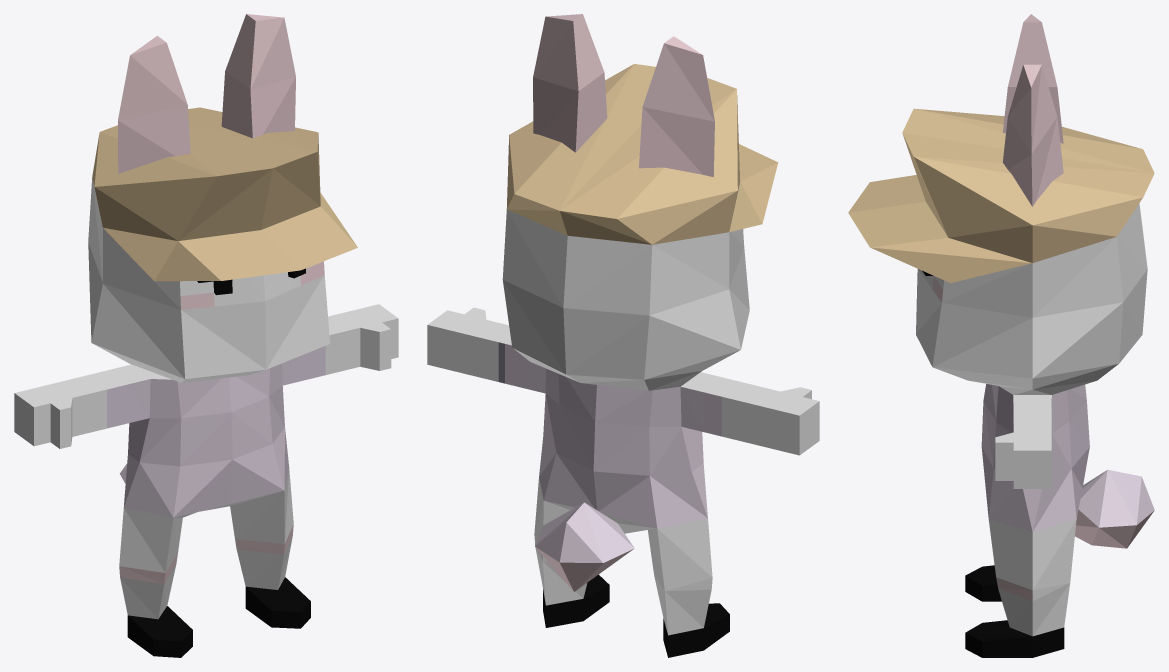
Rendered from Rabbit_ShopKeeper.fbx.
3 views of the same model, side by side, from view 1: azimuth 30°, elevation 25°; view 2: azimuth 150°, elevation 25°; view 3: azimuth 270°, elevation 25° (orthographic). The views are drawn at different scales.
Parts seen in each view (by area): view 1: Rabbit_Officer; view 2: Rabbit_Officer; view 3: Rabbit_Officer.
Part boxes in pixels (x1,y1,x2,y2): Rabbit_Officer: (14, 14, 398, 657); Rabbit_Officer: (427, 14, 819, 657); Rabbit_Officer: (848, 14, 1154, 657).
Bounding box in the file's own units: 1.7 × 2.63 × 1.27.
